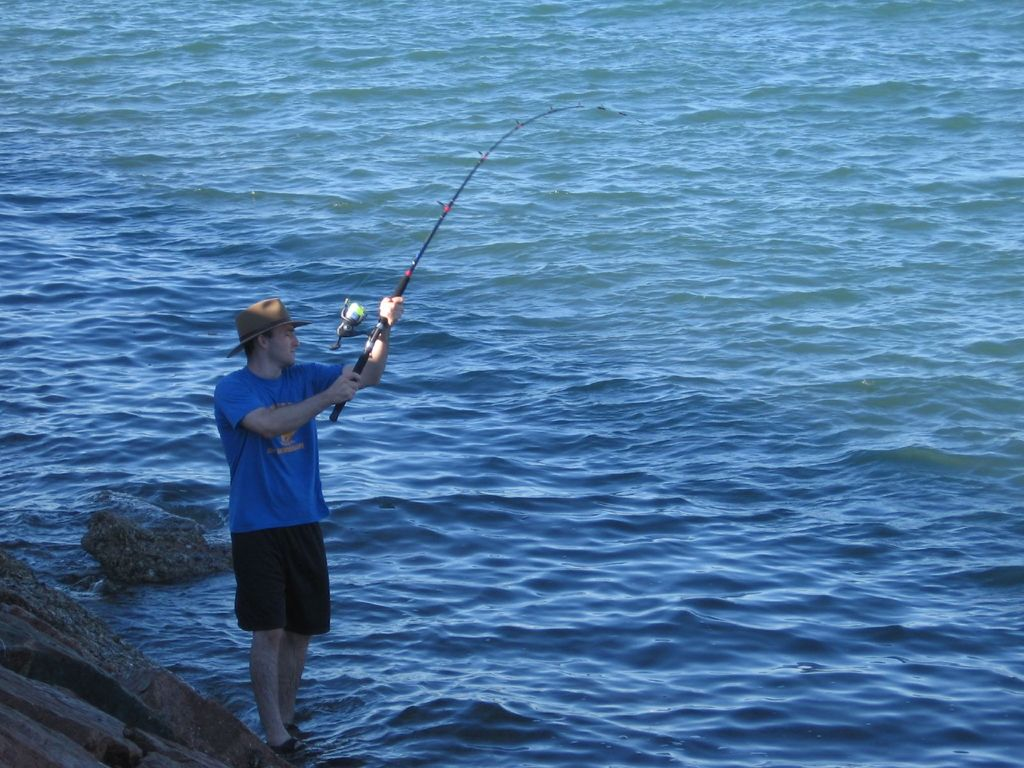Person: (214, 296, 403, 758)
